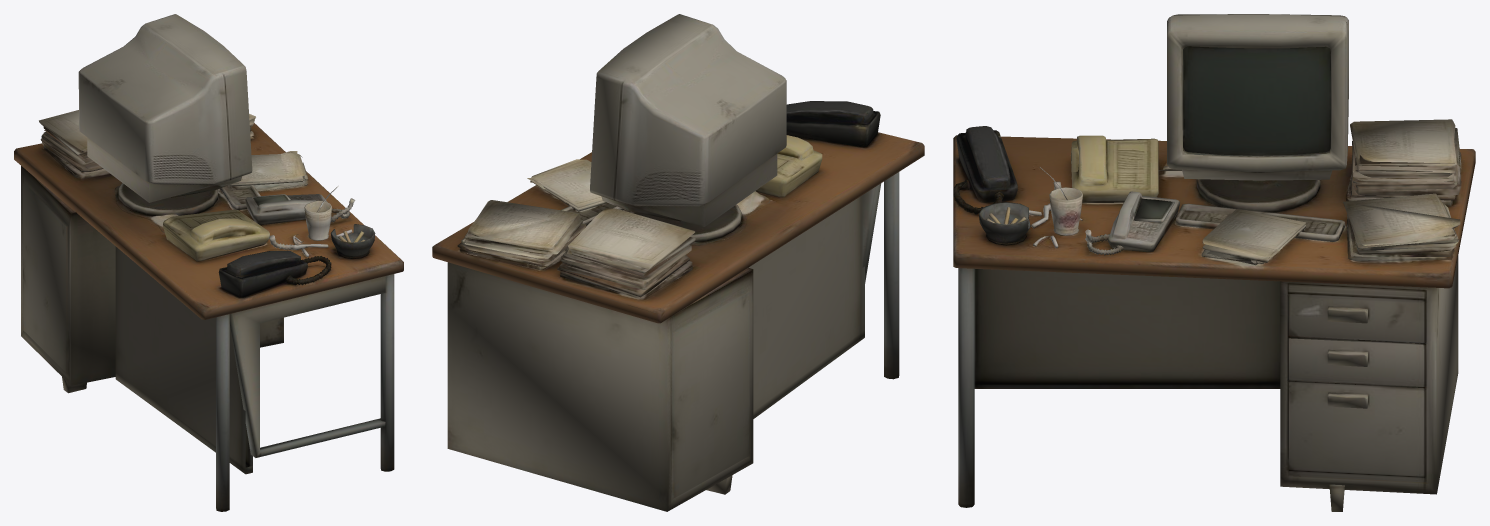
Rendered from calldesk.glb.
The picture shows the model from 3 angles, left to right: view 1: azimuth 30°, elevation 25°; view 2: azimuth 150°, elevation 25°; view 3: azimuth 270°, elevation 25°; orthographic projection. The views are drawn at different scales.
Visible parts, largest first — view 1: tripo_node_25a0eb5e-e11e-4e78-91fe-42eae7a51e40; view 2: tripo_node_25a0eb5e-e11e-4e78-91fe-42eae7a51e40; view 3: tripo_node_25a0eb5e-e11e-4e78-91fe-42eae7a51e40.
Boxes of the visible parts, x1,y1,x2,y2 form: tripo_node_25a0eb5e-e11e-4e78-91fe-42eae7a51e40: (14, 14, 403, 511); tripo_node_25a0eb5e-e11e-4e78-91fe-42eae7a51e40: (432, 14, 924, 511); tripo_node_25a0eb5e-e11e-4e78-91fe-42eae7a51e40: (953, 14, 1475, 511).
Bounding box in the file's own units: 0.6387 × 0.9238 × 0.998.
1 material, 1 textured.
